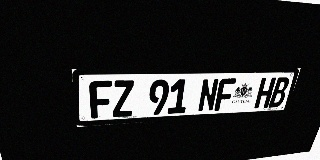1: (167, 79, 189, 114)
9: (148, 79, 170, 115)
B: (268, 77, 291, 108)
F: (89, 80, 112, 119), (214, 78, 236, 111)
H: (254, 77, 276, 108)
N: (197, 78, 219, 112)
Z: (112, 80, 134, 117)
